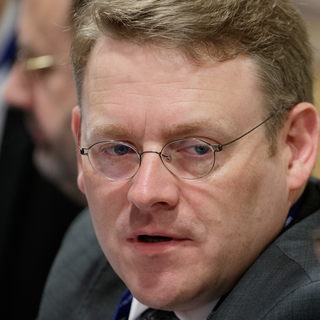eye: (178, 139, 224, 163), (98, 138, 141, 163)
